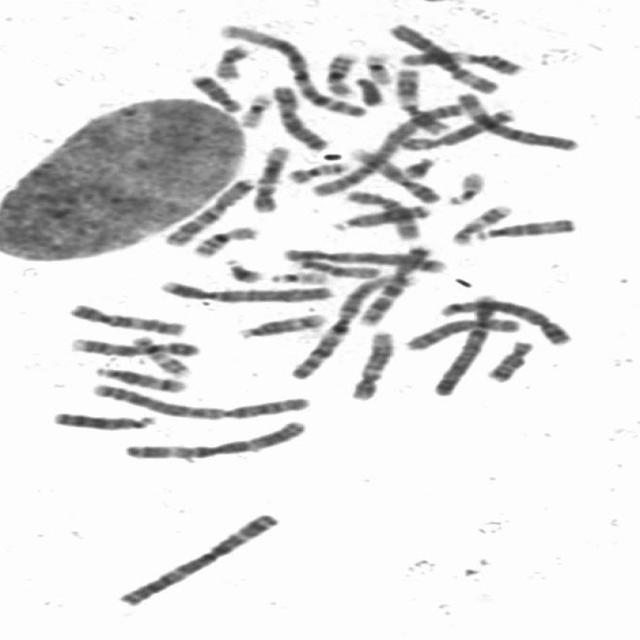A1: (212, 18, 370, 119), (286, 268, 414, 381)
A2: (306, 98, 469, 198), (83, 378, 316, 421)
A3: (110, 507, 284, 608), (117, 415, 312, 461)
B4: (426, 290, 502, 398), (153, 276, 340, 305)
B5: (432, 294, 576, 346), (277, 243, 450, 273)
C10: (61, 298, 189, 336), (338, 186, 424, 241)
C11: (386, 62, 452, 136), (396, 46, 528, 77)
C12: (344, 328, 397, 402), (246, 142, 293, 214)
C6: (383, 18, 506, 95), (450, 88, 583, 152)
C7: (352, 240, 437, 328), (159, 174, 260, 247)
C8: (391, 105, 518, 151), (398, 313, 521, 352)
C9: (344, 143, 443, 204), (64, 333, 204, 358)
D13: (325, 200, 433, 232), (46, 407, 160, 431)
D14: (87, 362, 192, 394), (232, 308, 332, 339)
D15: (468, 213, 580, 242), (290, 254, 384, 278)
E16: (185, 222, 262, 258), (318, 48, 360, 98)
E17: (446, 200, 516, 246), (125, 332, 194, 378)
E18: (182, 70, 245, 114), (479, 336, 536, 383)
F19: (234, 89, 276, 129), (357, 48, 397, 85)
F20: (281, 158, 352, 185), (208, 40, 254, 81)
G21: (218, 254, 268, 285), (395, 152, 439, 180)
G22: (442, 167, 489, 206), (264, 266, 332, 286)
X: (265, 80, 334, 152)
Y: (348, 73, 387, 107)
